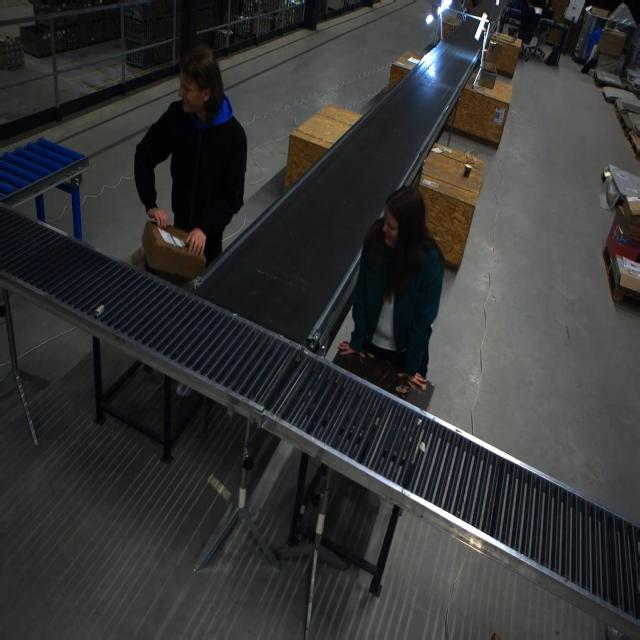box: (141, 221, 205, 281)
